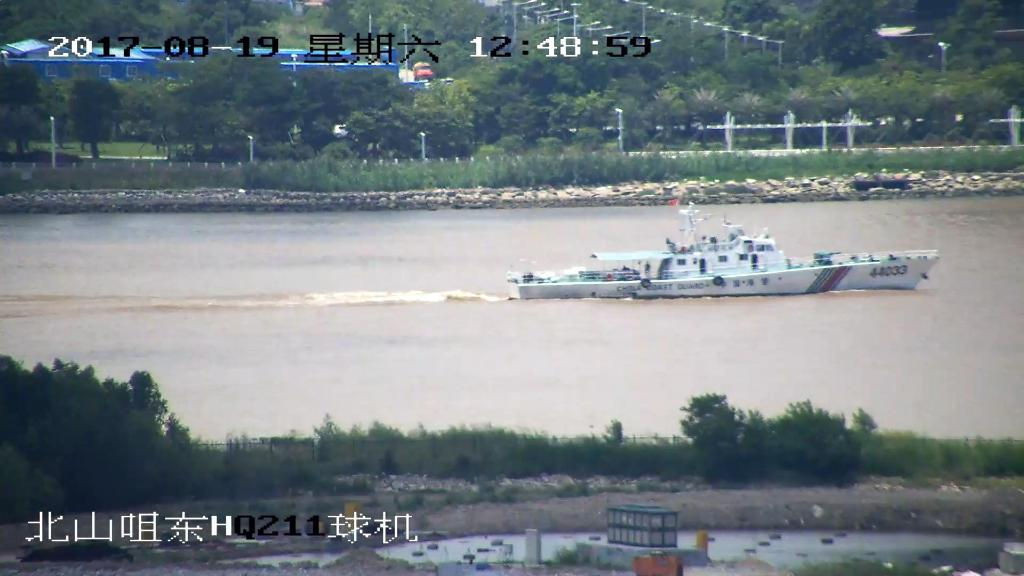Warship: (498, 200, 944, 312)
